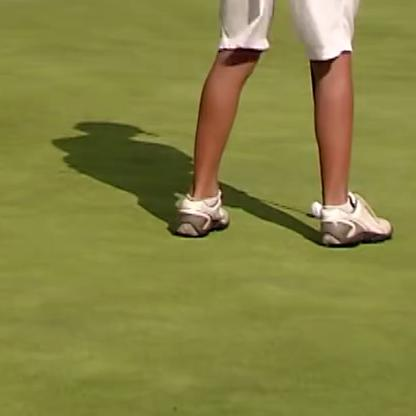golfball: (310, 195, 320, 213)
